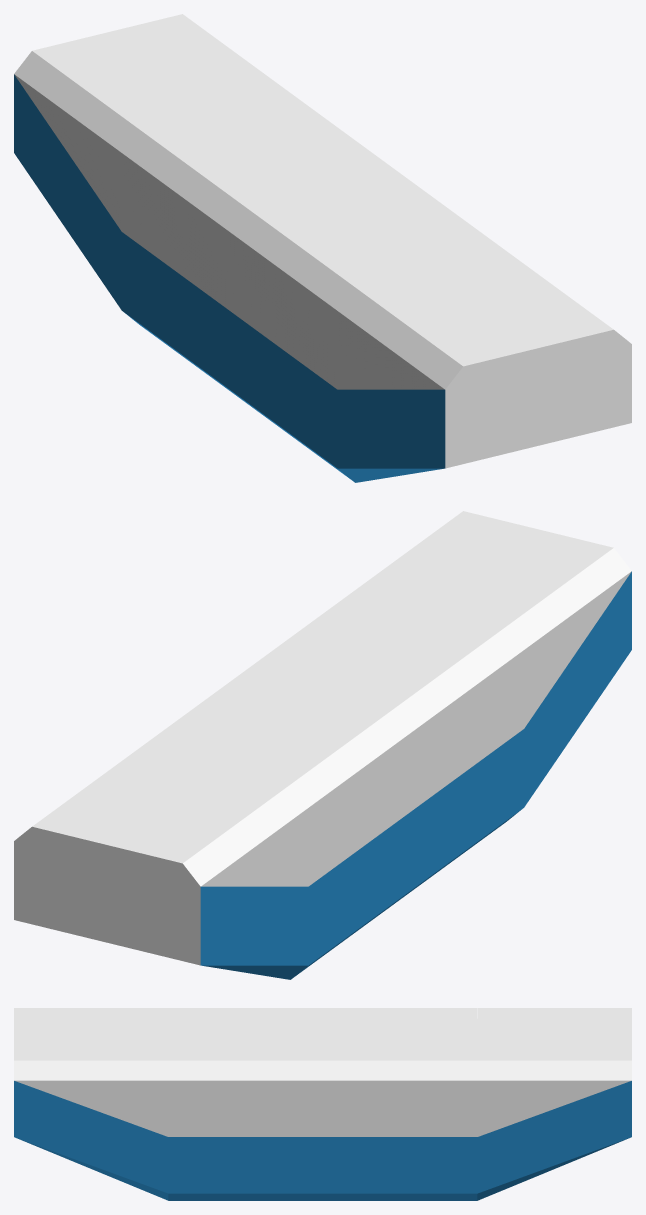
The model's file is tires.obj.
The picture shows the model from 3 angles, top to bottom: view 1: azimuth 30°, elevation 25°; view 2: azimuth 150°, elevation 25°; view 3: azimuth 270°, elevation 25°; orthographic projection. The views are drawn at different scales.
Parts seen in each view (by area): view 1: plane_end_138, plane_body_111, plane_body_0, plane_end_57; view 2: plane_end_57, plane_body_111, plane_body_0, plane_end_138; view 3: plane_body_111, plane_body_0, plane_end_57, plane_end_138.
Boxes of the visible parts, x1=… form: plane_end_138: x1=337, y1=251, x2=631, y2=482; plane_body_111: x1=121, y1=93, x2=397, y2=400; plane_body_0: x1=229, y1=172, x2=505, y2=481; plane_end_57: x1=14, y1=14, x2=289, y2=309; plane_end_57: x1=14, y1=748, x2=308, y2=979; plane_body_111: x1=140, y1=669, x2=416, y2=978; plane_body_0: x1=248, y1=590, x2=524, y2=897; plane_end_138: x1=356, y1=511, x2=631, y2=806; plane_body_111: x1=323, y1=1008, x2=477, y2=1200; plane_body_0: x1=168, y1=1008, x2=322, y2=1200; plane_end_57: x1=477, y1=1008, x2=631, y2=1200; plane_end_138: x1=14, y1=1008, x2=168, y2=1200.
Size of the model in its own units: 1 by 1 by 4.
